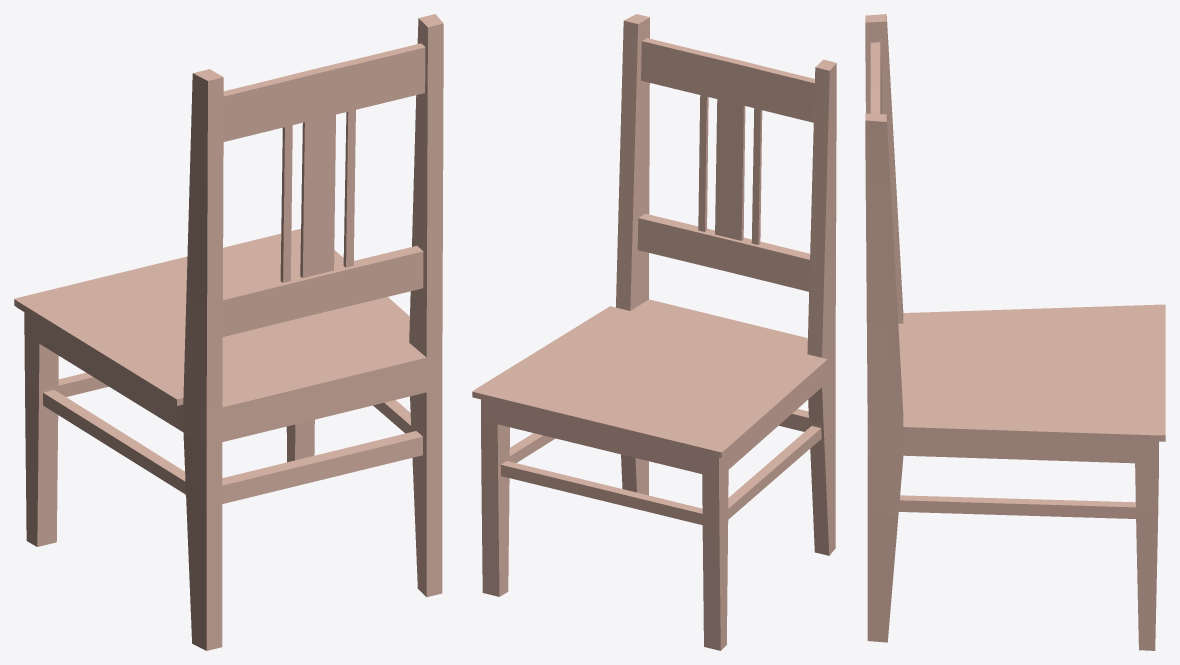
Rendered from prop_tuoli.fbx.
The picture shows the model from 3 angles, left to right: view 1: azimuth 30°, elevation 25°; view 2: azimuth 150°, elevation 25°; view 3: azimuth 270°, elevation 25°; orthographic projection. The views are drawn at different scales.
Visible parts, largest first — view 1: Cube.001; view 2: Cube.001; view 3: Cube.001.
Part boxes in pixels (x1,y1,x2,y2): Cube.001: (14,14,443,650); Cube.001: (472,14,836,650); Cube.001: (865,14,1165,650).
Bounding box in the file's own units: 242 × 449 × 235.
